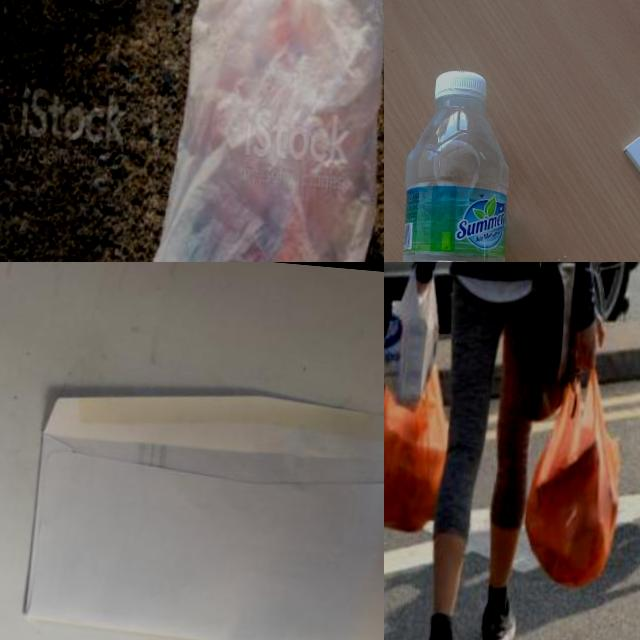garrafa plástica: (384, 94, 527, 262)
papel: (21, 365, 384, 640)
sacola plástica: (133, 0, 384, 262), (509, 329, 640, 596), (384, 384, 464, 585), (384, 262, 454, 422)
tampa plástica: (430, 65, 490, 112)
